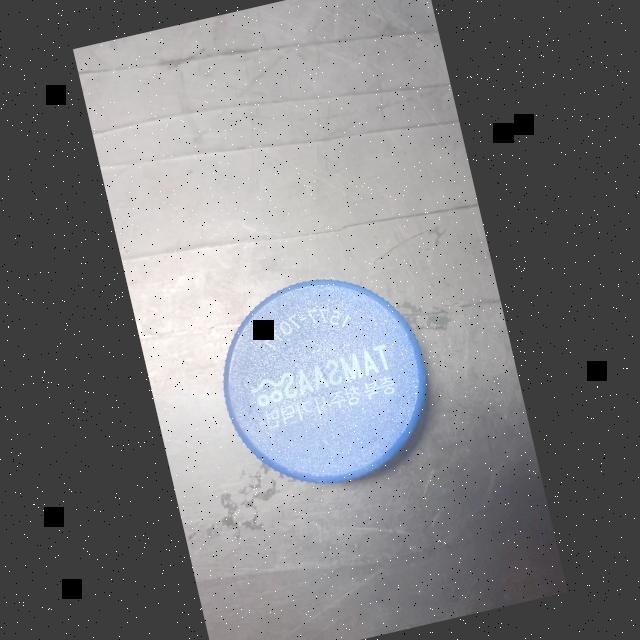plastic_bottle_cap: (195, 250, 453, 514)
